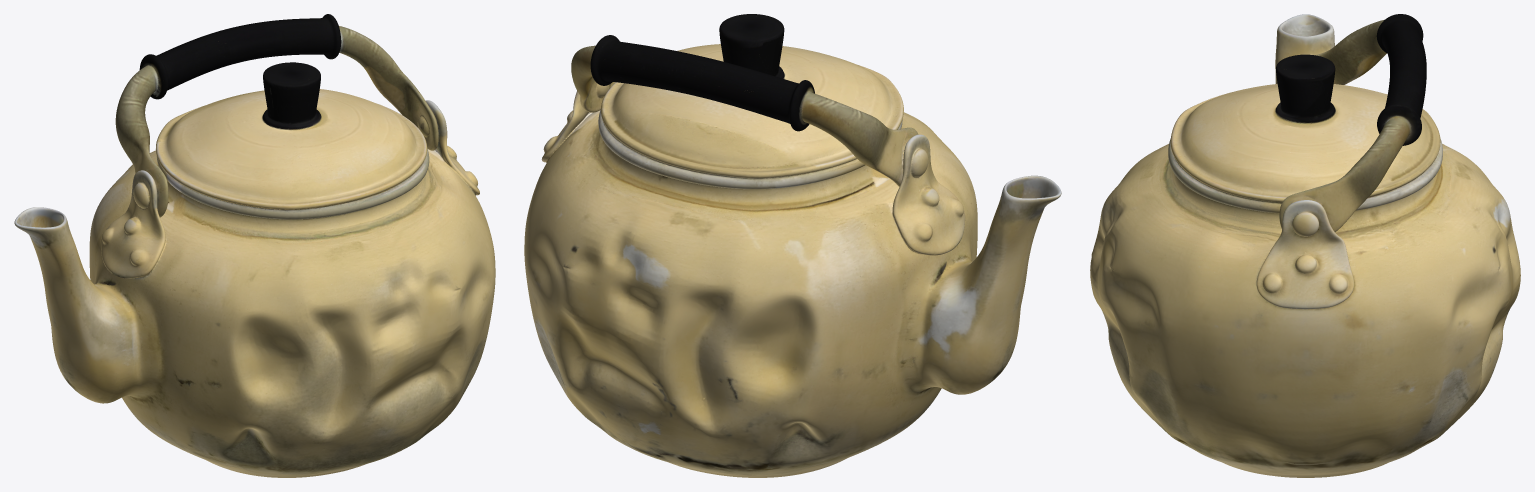
File: 막걸리주전자.glb
3 renders of one model, left to right at view 1: azimuth 30°, elevation 25°; view 2: azimuth 150°, elevation 25°; view 3: azimuth 270°, elevation 25°, orthographic. The views are drawn at different scales.
Size of the model in its own units: 1.9 by 1.49 by 1.54.
1 material, 1 textured.
